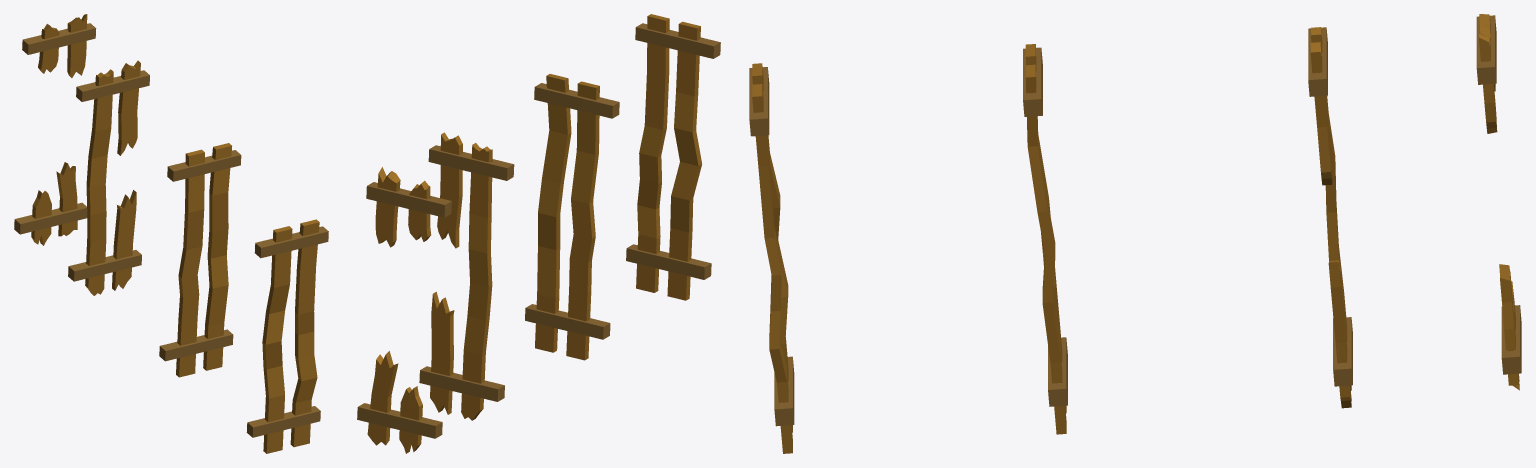
File: Fences.fbx
The picture shows the model from 3 angles, left to right: view 1: azimuth 30°, elevation 25°; view 2: azimuth 150°, elevation 25°; view 3: azimuth 270°, elevation 25°; orthographic projection. The views are drawn at different scales.
Visible parts, largest first — view 1: Fence, Fence Post 01, Fence Post 01.001, Fence Post 02.002; view 2: Fence Post 01, Fence, Fence Post 01.001, Fence Post 02.002; view 3: Fence Post 01, Fence, Fence Post 01.001, Fence Post 02.002.
Boxes of the visible parts, <box> form: Fence: <box>159,143,241,377</box>; Fence Post 01: <box>246,219,328,453</box>; Fence Post 01.001: <box>68,60,149,295</box>; Fence Post 02.002: <box>14,14,96,245</box>; Fence Post 01: <box>626,14,720,300</box>; Fence: <box>525,74,619,360</box>; Fence Post 01.001: <box>419,132,514,420</box>; Fence Post 02.002: <box>357,167,451,453</box>; Fence Post 01: <box>749,63,794,453</box>; Fence: <box>1023,44,1067,434</box>; Fence Post 01.001: <box>1308,27,1352,408</box>; Fence Post 02.002: <box>1476,14,1521,390</box>.
Size of the model in its own units: 108 by 407 by 684.
